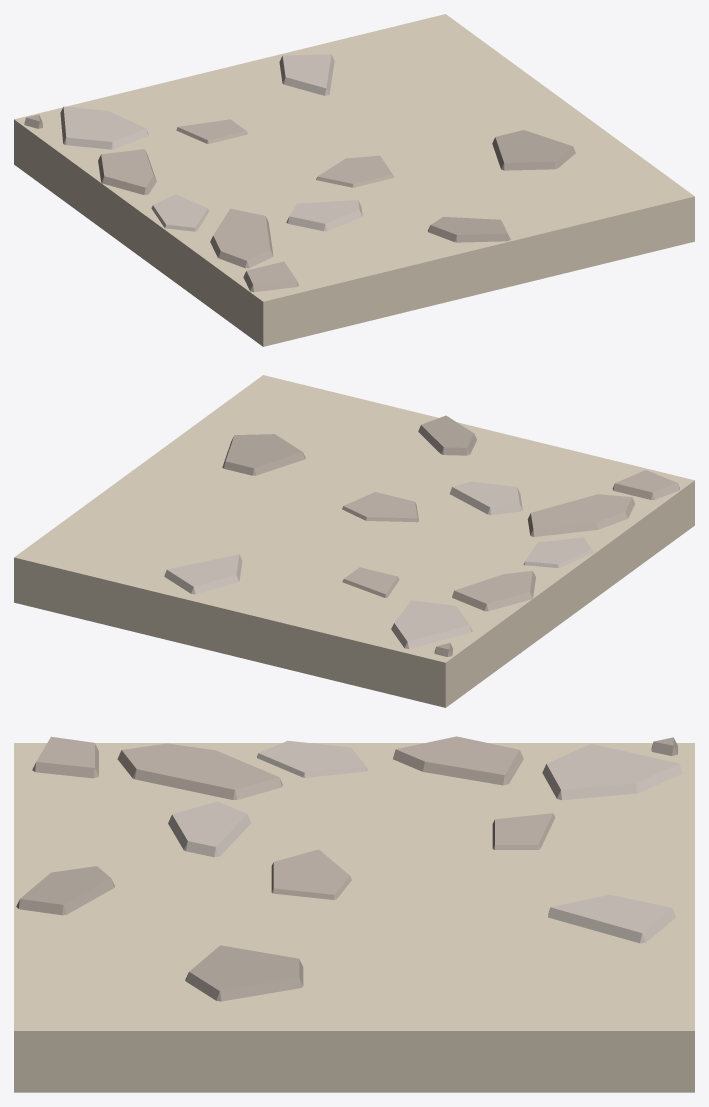
Rendered from object1_138-col.gltf.
3 renders of one model, top to bottom at view 1: azimuth 30°, elevation 25°; view 2: azimuth 150°, elevation 25°; view 3: azimuth 270°, elevation 25°, orthographic. The views are drawn at different scales.
Visible parts, largest first — view 1: object1.138-col; view 2: object1.138-col; view 3: object1.138-col.
Part boxes in pixels (bbox=[...]): object1.138-col: bbox=[14, 14, 694, 346]; object1.138-col: bbox=[14, 375, 694, 707]; object1.138-col: bbox=[14, 736, 694, 1092].
Bounding box in the file's own units: 2 × 0.2281 × 2.
